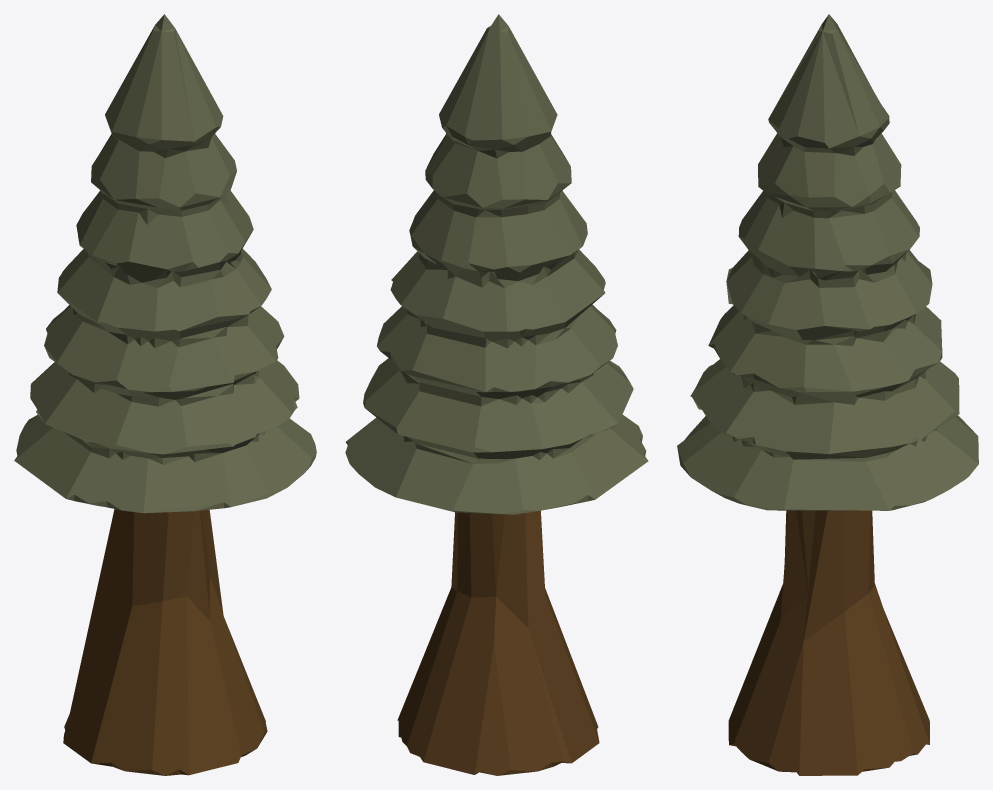
The model's file is Trees.glb.
3 renders of one model, left to right at view 1: azimuth 30°, elevation 25°; view 2: azimuth 150°, elevation 25°; view 3: azimuth 270°, elevation 25°, orthographic.
Visible parts, largest first — view 1: Root; view 2: Root; view 3: Root.
Boxes of the visible parts, x1,y1,x2,y2 form: Root: (14,14,316,775); Root: (345,14,648,775); Root: (677,14,978,775).
Size of the model in its own units: 1.32 by 3.66 by 1.39.
